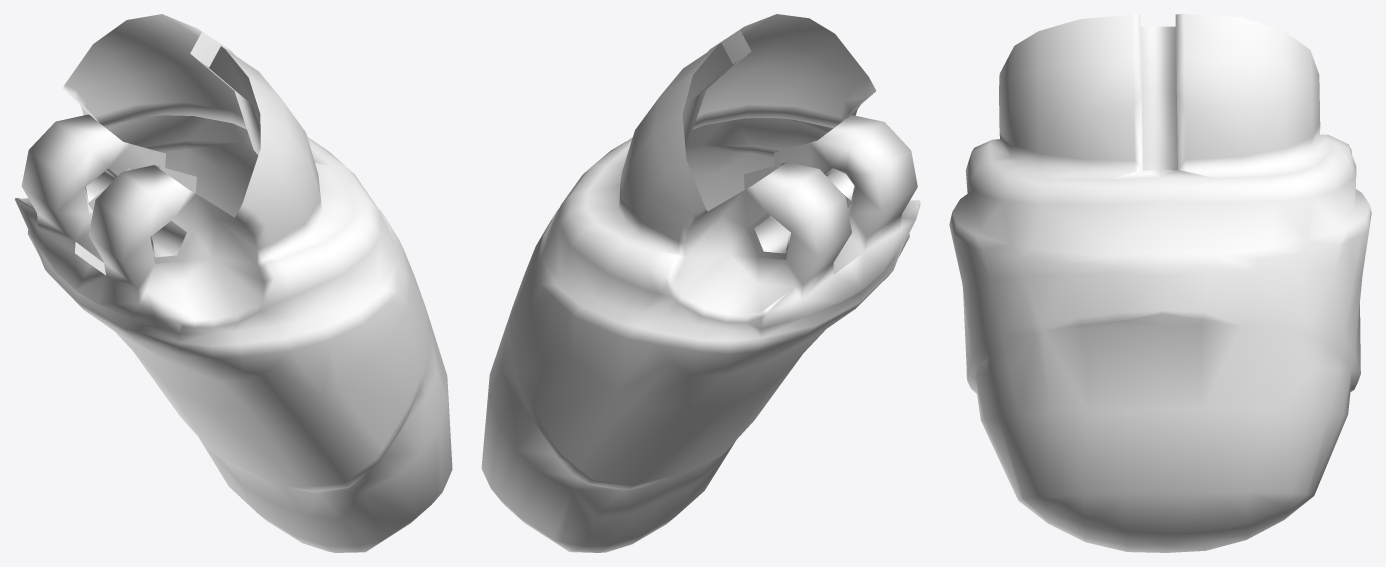
Rendered from LThumb2.dae.
3 views of the same model, side by side, from view 1: azimuth 30°, elevation 25°; view 2: azimuth 150°, elevation 25°; view 3: azimuth 270°, elevation 25° (orthographic). The views are drawn at different scales.
Parts seen in each view (by area): view 1: LThumb2; view 2: LThumb2; view 3: LThumb2.
Boxes of the visible parts, bbox=[...] form: LThumb2: bbox=[15, 14, 452, 552]; LThumb2: bbox=[481, 14, 920, 552]; LThumb2: bbox=[949, 14, 1371, 552].
Bounding box in the file's own units: 0.1435 × 0.1622 × 0.2047.
Materials: 1 (1 with a texture image).
